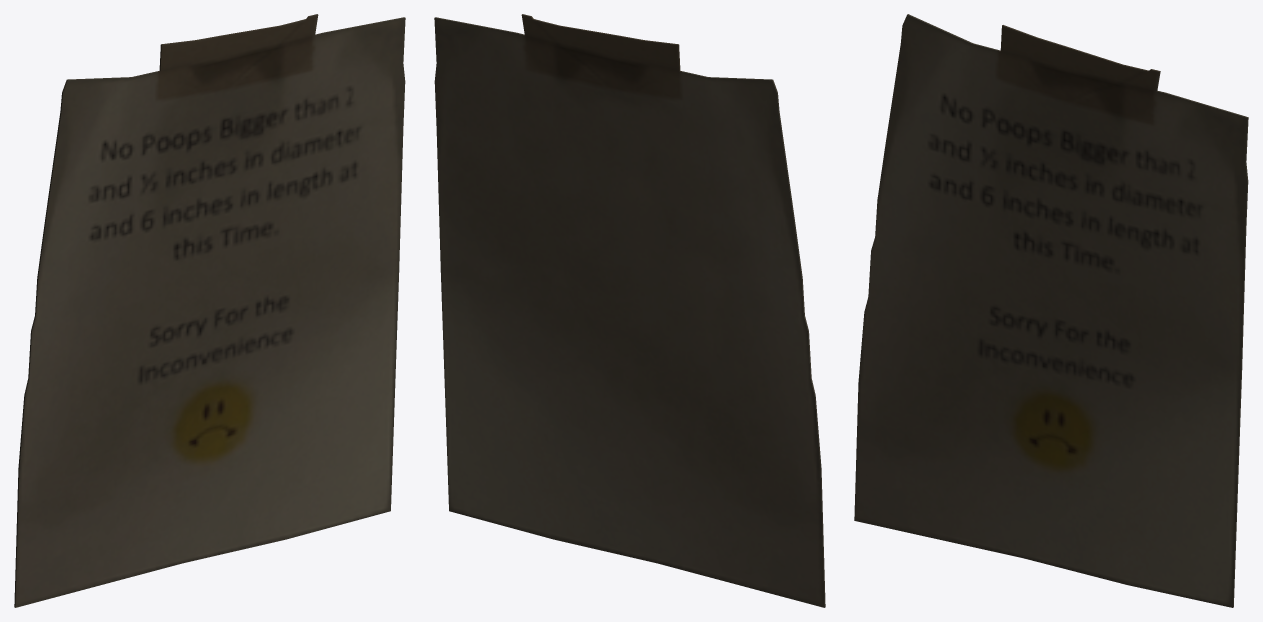
Rendered from note_mx_100.obj.
The picture shows the model from 3 angles, left to right: view 1: azimuth 30°, elevation 25°; view 2: azimuth 150°, elevation 25°; view 3: azimuth 330°, elevation 25°; orthographic projection.
Parts seen in each view (by area): view 1: note_mx_100; view 2: note_mx_100; view 3: note_mx_100.
Boxes of the visible parts, left/top/right/bottom form: note_mx_100: left=14, top=14, right=405, bottom=607; note_mx_100: left=434, top=14, right=825, bottom=607; note_mx_100: left=854, top=14, right=1248, bottom=607.
Bounding box in the file's own units: 0.2226 × 0.2875 × 0.001.
